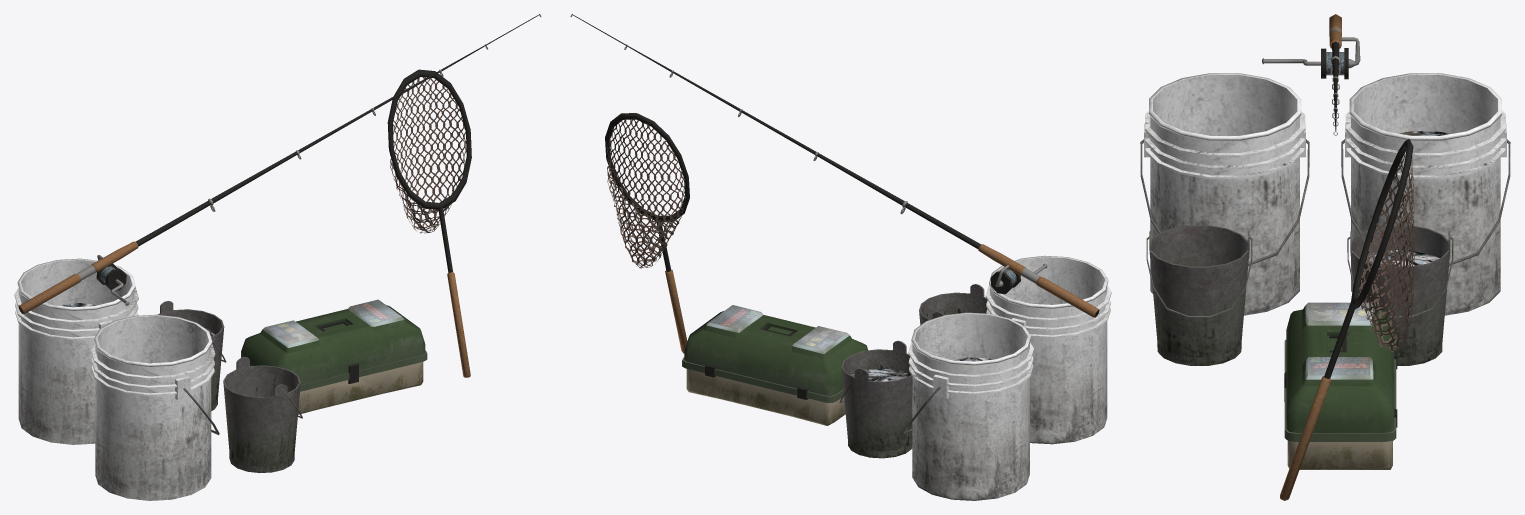
The model's file is FishingSupplies.fbx.
3 views of the same model, side by side, from view 1: azimuth 30°, elevation 25°; view 2: azimuth 150°, elevation 25°; view 3: azimuth 270°, elevation 25° (orthographic). The views are drawn at different scales.
Parts seen in each view (by area): view 1: Plastic Bucket Empty, Plastic Bucket (Full), Tackle Box, Fishing Net, Metal Bucket (Empty), Fishing Pole, Metal Bucket (Full); view 2: Plastic Bucket (Full), Plastic Bucket Empty, Tackle Box, Fishing Net, Metal Bucket (Full), Fishing Pole, Metal Bucket (Empty); view 3: Plastic Bucket Empty, Plastic Bucket (Full), Tackle Box, Metal Bucket (Empty), Fishing Net, Metal Bucket (Full), Fishing Pole.
Boxes of the visible parts, box(x1,y1,x2,y2) form: Plastic Bucket Empty: box(91, 314, 219, 500); Plastic Bucket (Full): box(14, 258, 138, 444); Tackle Box: box(241, 299, 427, 414); Fishing Net: box(387, 69, 471, 377); Metal Bucket (Empty): box(223, 357, 302, 472); Fishing Pole: box(18, 14, 541, 314); Metal Bucket (Full): box(158, 301, 226, 410); Plastic Bucket (Full): box(904, 312, 1033, 500); Plastic Bucket Empty: box(985, 255, 1111, 444); Tackle Box: box(682, 305, 867, 425); Fishing Net: box(605, 113, 689, 353); Metal Bucket (Full): box(839, 340, 912, 458); Fishing Pole: box(570, 14, 1099, 317); Metal Bucket (Empty): box(919, 284, 987, 324); Plastic Bucket Empty: box(1140, 73, 1309, 315); Plastic Bucket (Full): box(1341, 73, 1510, 315); Tackle Box: box(1284, 302, 1397, 469); Metal Bucket (Empty): box(1146, 225, 1252, 365); Fishing Net: box(1280, 139, 1414, 500); Metal Bucket (Full): box(1347, 225, 1453, 365); Fishing Pole: box(1262, 14, 1360, 135).
Bounding box in the file's own units: 12375 × 7420 × 5800.
